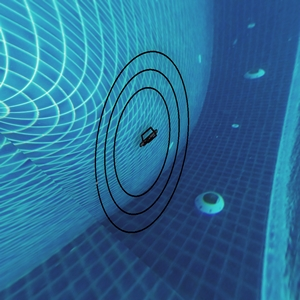circle: (89, 41, 189, 239), (205, 236, 207, 237)
submarine: (139, 128, 165, 148)
